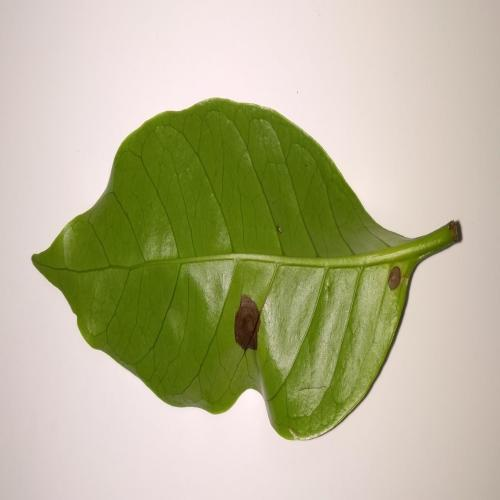leaf: (32, 90, 474, 451)
phoma: (225, 290, 271, 366), (385, 263, 406, 299)
